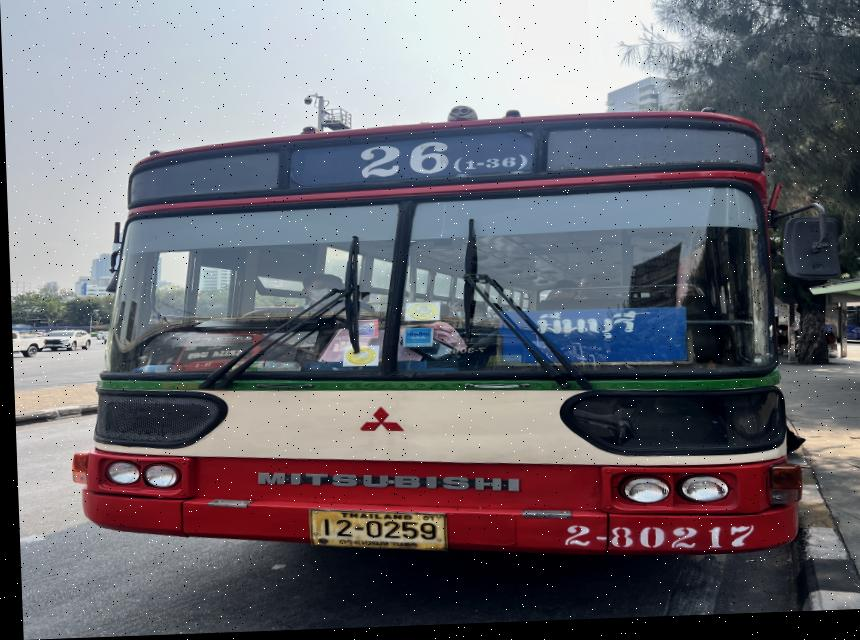BMTA-bus: (69, 112, 801, 563)
Bus Line Number: (342, 139, 539, 188)
Bus Side Number: (544, 516, 764, 565)
Destination Sign: (493, 307, 694, 370)
